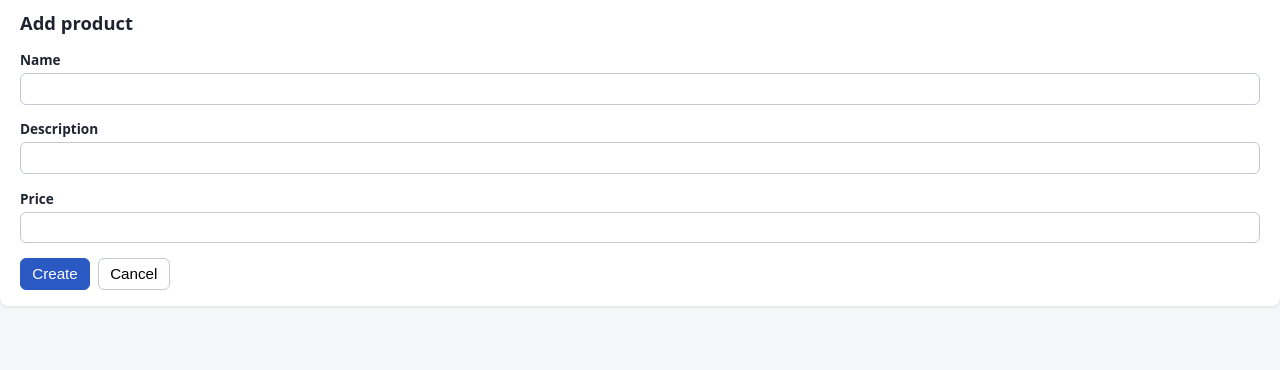
Test: ProductForm › clears a field error when the user types in that field
The image size is (1280, 370).
Click the button "Create". click: (55, 274)
box: [20,258,90,290]
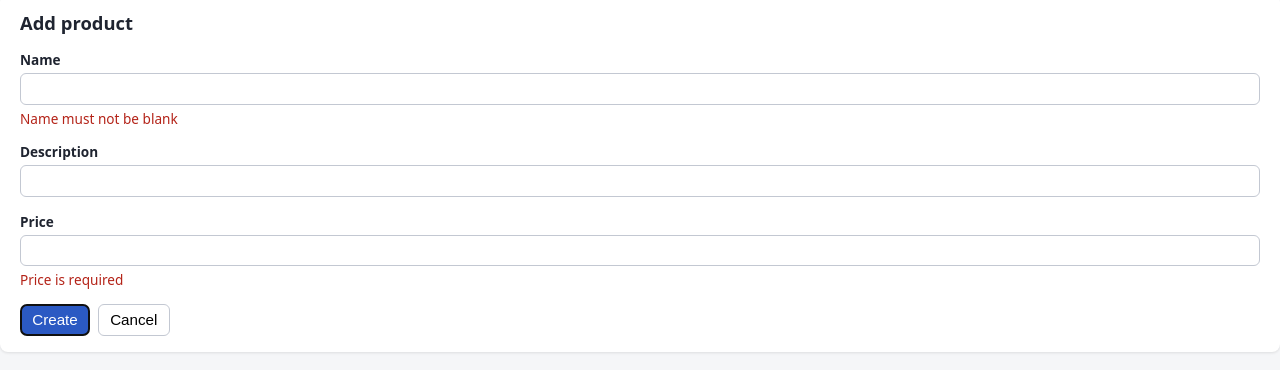
Check: the text "Name must not be blank" is shown, box [20,109,178,128]
Type "L" into the field labelled "Name". click: (640, 89)
box: [20,73,1260,105]
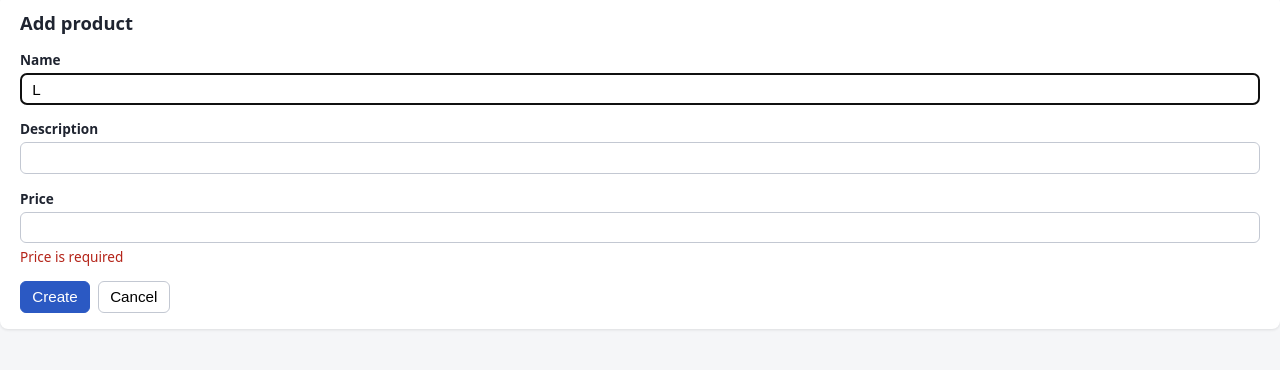
Check: the text "Name must not be blank" is gone
